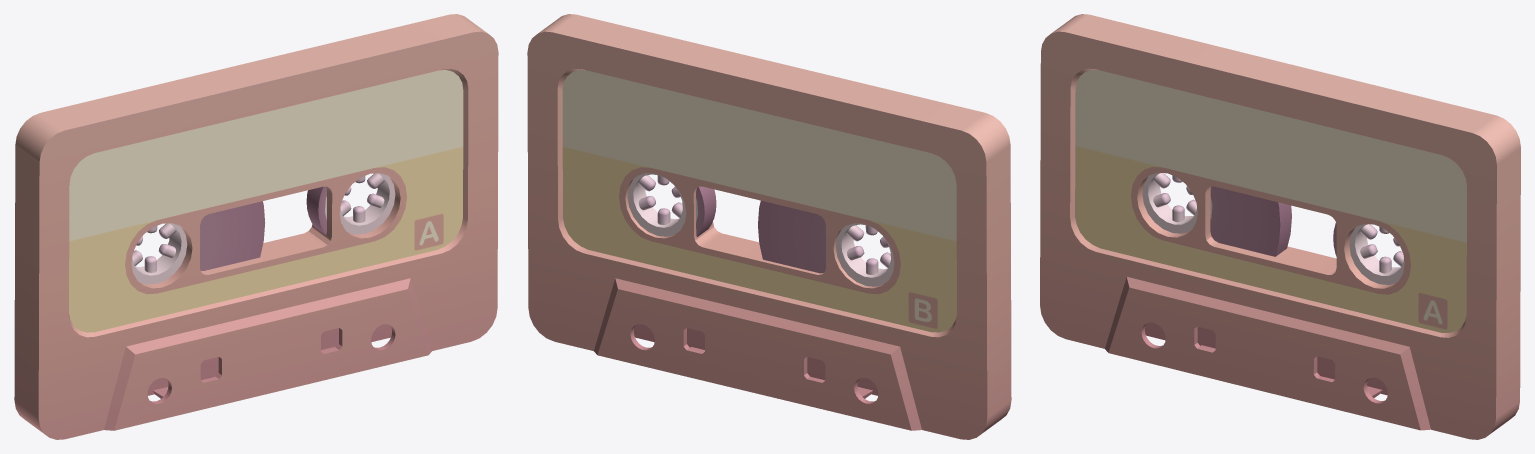
File: Cassette_Turn_BtoA.fbx
3 views of the same model, side by side, from view 1: azimuth 30°, elevation 25°; view 2: azimuth 150°, elevation 25°; view 3: azimuth 330°, elevation 25° (orthographic).
Visible parts, largest first — view 1: Animatoin00:Cassette, Animatoin00:Cassette_Tape_1_Left, Animatoin00:Cassette_Tape_2_Right; view 2: Animatoin00:Cassette, Animatoin00:Cassette_Tape_1_Left, Animatoin00:Cassette_Tape_2_Right; view 3: Animatoin00:Cassette, Animatoin00:Cassette_Tape_1_Left, Animatoin00:Cassette_Tape_2_Right.
Boxes of the visible parts, x1=… form: Animatoin00:Cassette: x1=14, y1=14, x2=498, y2=439; Animatoin00:Cassette_Tape_1_Left: x1=131, y1=201, x2=264, y2=284; Animatoin00:Cassette_Tape_2_Right: x1=306, y1=173, x2=395, y2=234; Animatoin00:Cassette: x1=527, y1=14, x2=1011, y2=439; Animatoin00:Cassette_Tape_1_Left: x1=758, y1=200, x2=894, y2=286; Animatoin00:Cassette_Tape_2_Right: x1=627, y1=173, x2=716, y2=236; Animatoin00:Cassette: x1=1040, y1=14, x2=1520, y2=439; Animatoin00:Cassette_Tape_1_Left: x1=1142, y1=172, x2=1291, y2=256; Animatoin00:Cassette_Tape_2_Right: x1=1333, y1=223, x2=1404, y2=284.
Size of the model in its own units: 10.04 by 6.47 by 1.17.
